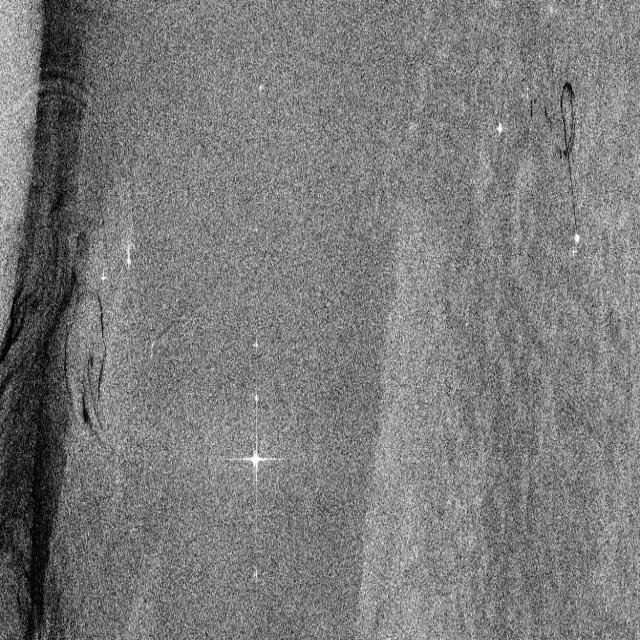look-alike: (2, 4, 119, 636)
oil-spill: (526, 74, 587, 234)
ship: (221, 404, 286, 512), (490, 107, 510, 147), (568, 226, 586, 262), (124, 231, 136, 277)
